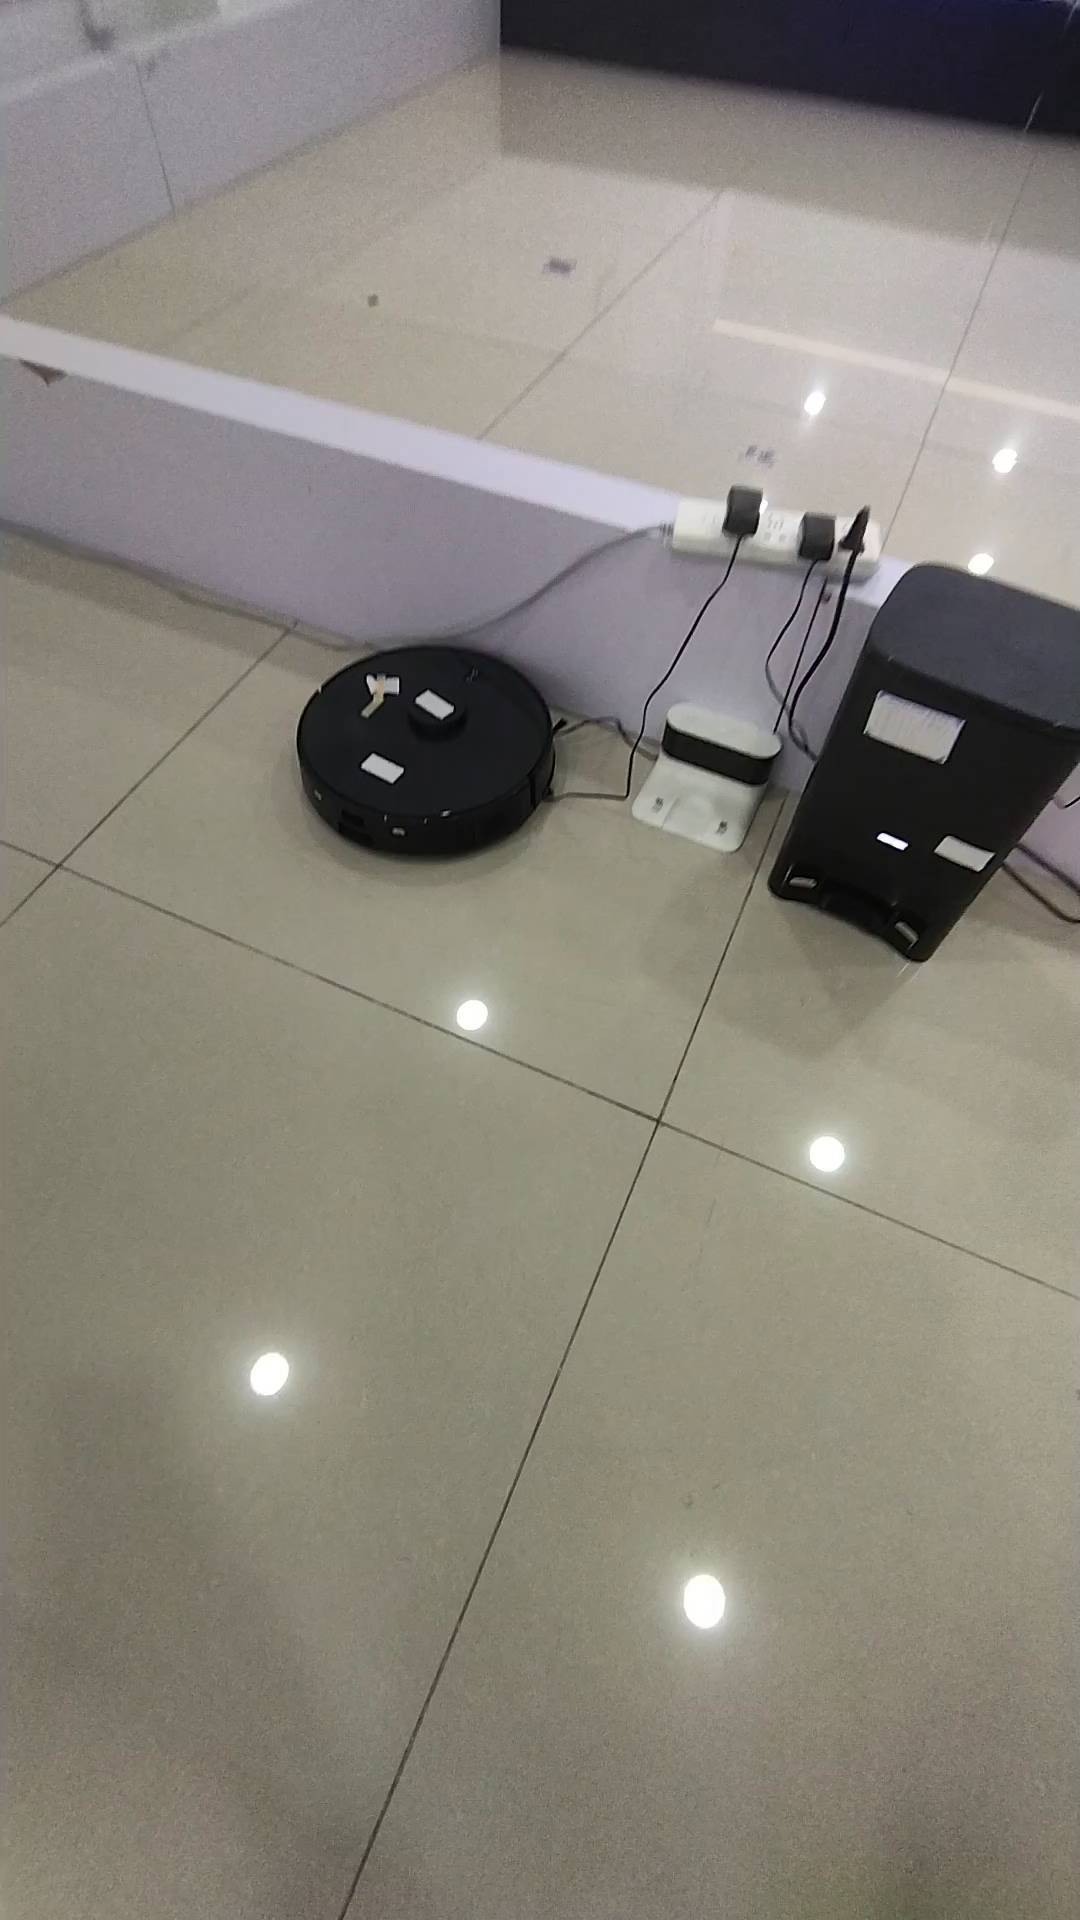dust collecting barrel: (766, 563, 1080, 963)
recharge seat: (632, 704, 785, 852)
